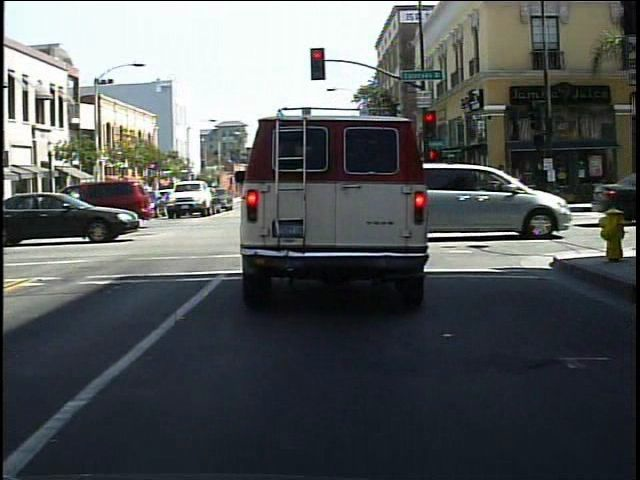person: (529, 159, 552, 209), (511, 166, 531, 210)
